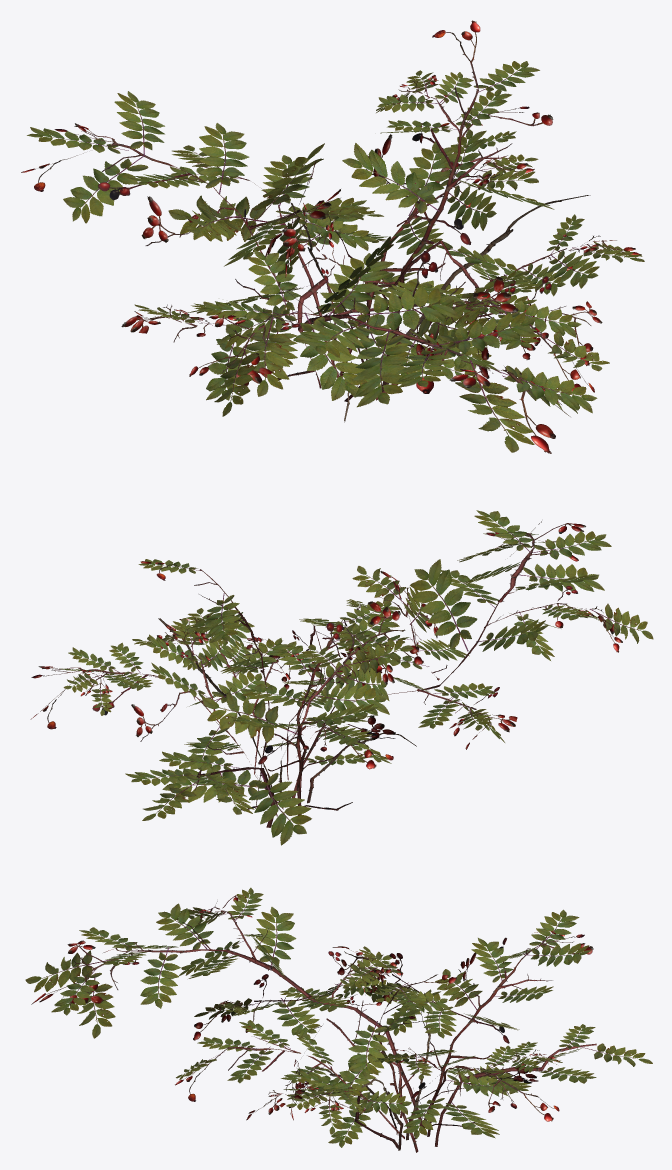
File: wild_rose_01_LOD2.FBX
3 views of the same model, one above another, from view 1: azimuth 30°, elevation 25°; view 2: azimuth 150°, elevation 25°; view 3: azimuth 270°, elevation 25° (orthographic). The views are drawn at different scales.
Parts seen in each view (by area): view 1: wild_rose_01_LOD2; view 2: wild_rose_01_LOD2; view 3: wild_rose_01_LOD2.
Boxes of the visible parts, x1,y1,x2,y2 form: wild_rose_01_LOD2: (21, 20, 644, 453); wild_rose_01_LOD2: (30, 510, 653, 845); wild_rose_01_LOD2: (25, 887, 652, 1152).
Bounding box in the file's own units: 138 × 75.48 × 194.
